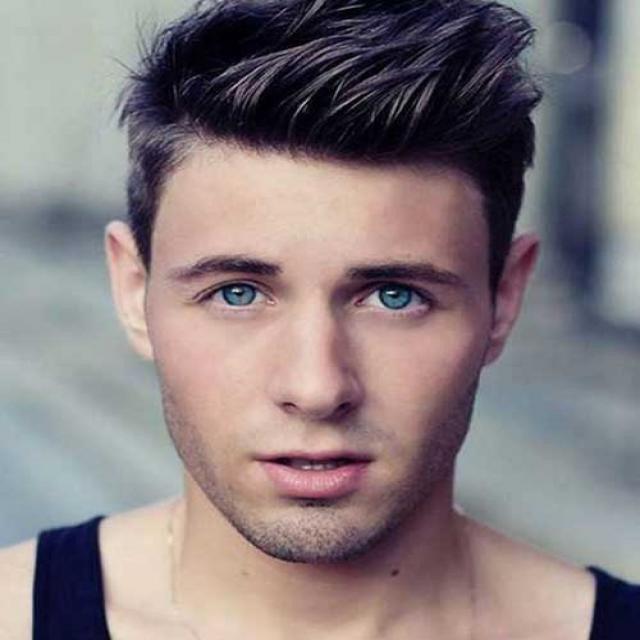earlobe: (124, 322, 154, 361), (484, 328, 511, 364)
eye: (200, 280, 277, 310), (354, 281, 428, 312)
nose: (273, 401, 363, 445)
wholeear: (484, 231, 542, 366), (102, 221, 154, 360)
